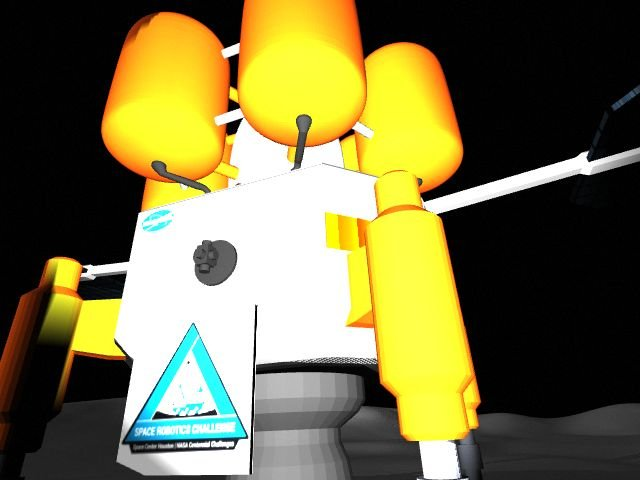basemarker: (119, 321, 249, 456)
